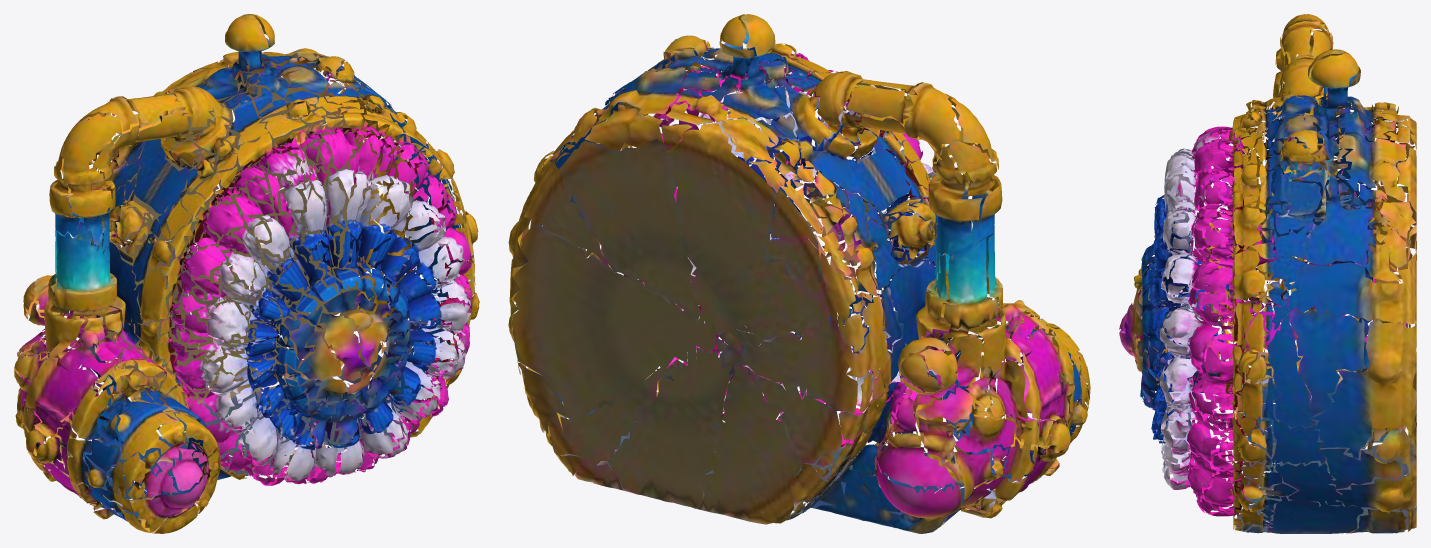
File: BubbleWash_Side_Machinery_Claudia_Small.glb
3 renders of one model, left to right at view 1: azimuth 30°, elevation 25°; view 2: azimuth 150°, elevation 25°; view 3: azimuth 270°, elevation 25°, orthographic. The views are drawn at different scales.
Visible parts, largest first — view 1: SideMachinery; view 2: SideMachinery; view 3: SideMachinery.
Boxes of the visible parts, x1=… form: SideMachinery: x1=14, y1=14, x2=479, y2=533; SideMachinery: x1=508, y1=14, x2=1090, y2=533; SideMachinery: x1=1119, y1=14, x2=1416, y2=533.
Size of the model in its own units: 1.88 by 1.72 by 1.07.
1 material, 1 textured.
